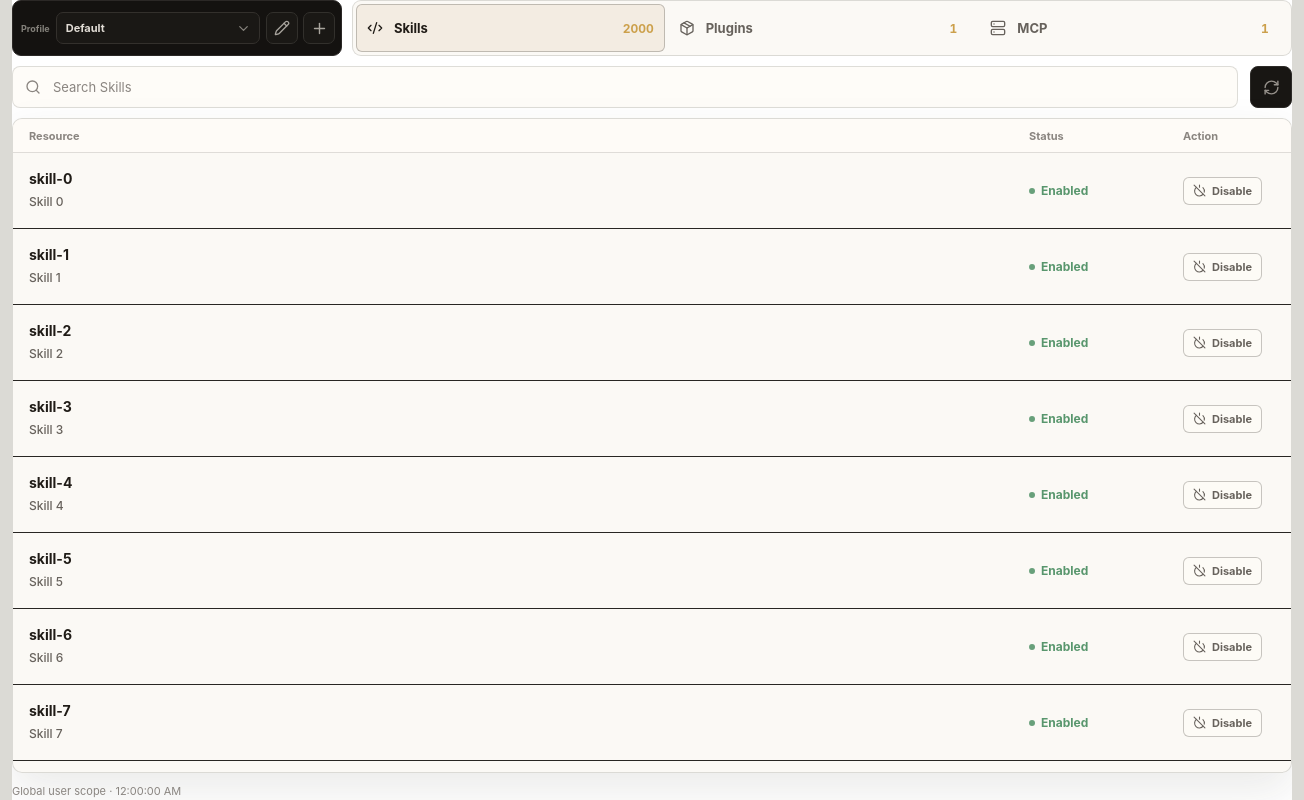
Unified Claude Profiles page › keeps the dynamic All profile read-only
Click the button with aria-label "Profile: Default": [158, 28] box x1=56 y1=12 x2=260 y2=44
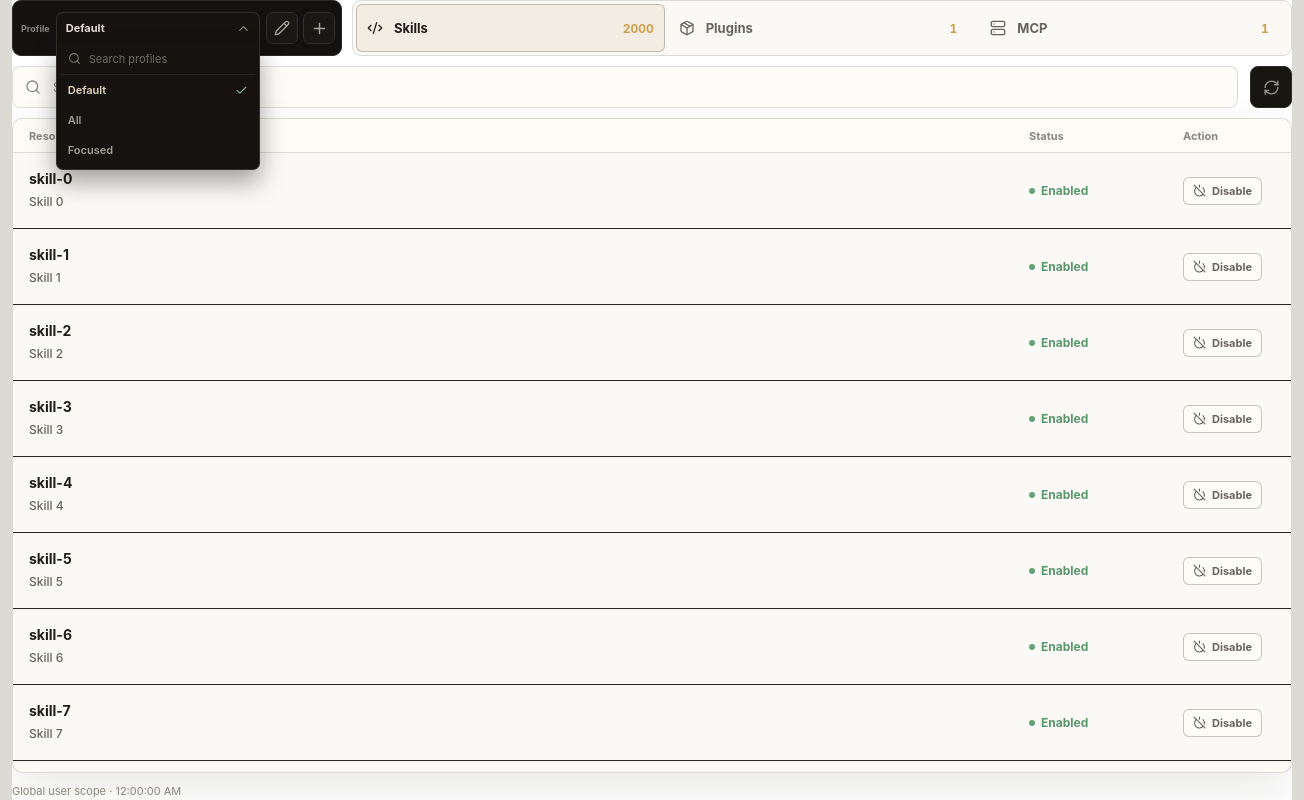
Click the option "All": [158, 120] box x1=61 y1=105 x2=255 y2=135
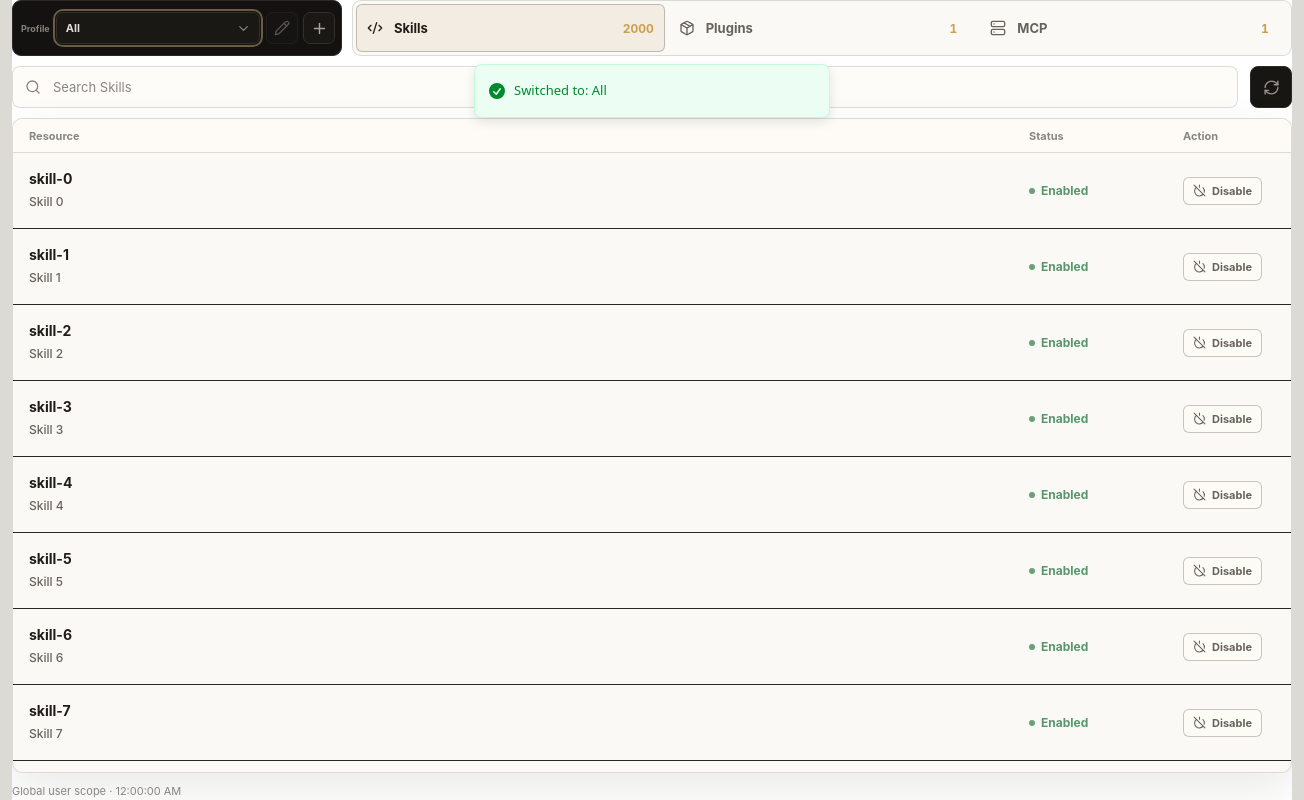
Check: the button named "Edit profile" is disabled, box x1=266 y1=12 x2=298 y2=44
